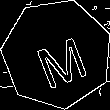M_N: (26, 22, 88, 86)
